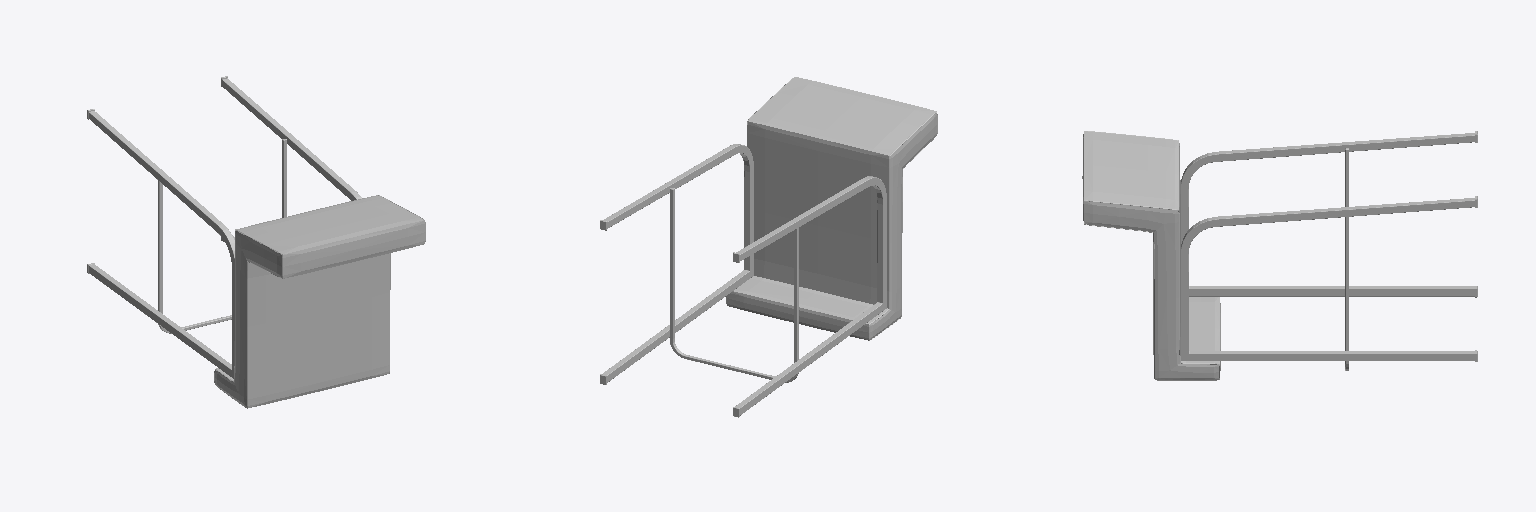
File: Bar Stool.obj
3 views of the same model, side by side, from view 1: azimuth 30°, elevation 25°; view 2: azimuth 150°, elevation 25°; view 3: azimuth 270°, elevation 25° (orthographic).
Visible parts, largest first — view 1: Seat, Frame; view 2: Seat, Frame; view 3: Seat, Frame.
Boxes of the visible parts, x1,y1,x2,y2 form: Seat: [214, 195, 425, 408]; Frame: [89, 78, 361, 378]; Seat: [726, 77, 937, 340]; Frame: [603, 144, 886, 415]; Seat: [1082, 131, 1220, 380]; Frame: [1181, 133, 1474, 370].
Bounding box in the file's own units: 16.9 × 20.22 × 39.85.